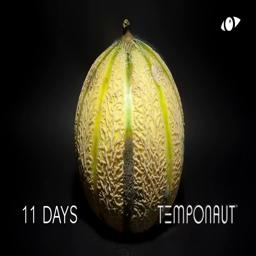Melon Fresh: (69, 17, 187, 227)
